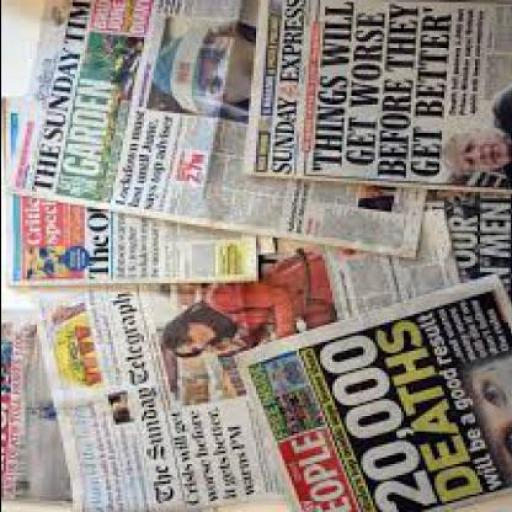paper: (24, 209, 456, 511), (2, 2, 426, 264), (228, 277, 510, 511), (238, 2, 510, 199), (2, 98, 258, 287), (2, 311, 72, 511), (428, 196, 510, 277), (255, 240, 272, 262)
